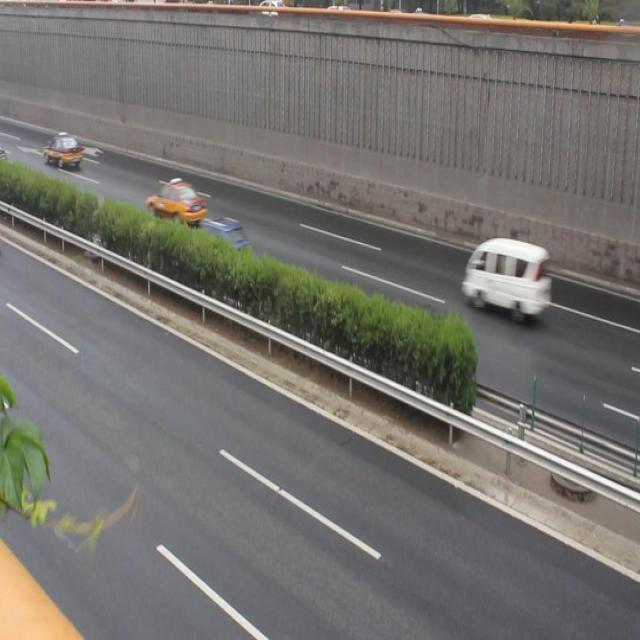car: (186, 220, 250, 272), (146, 184, 206, 227), (44, 135, 84, 174)
truck: (462, 242, 551, 320)
